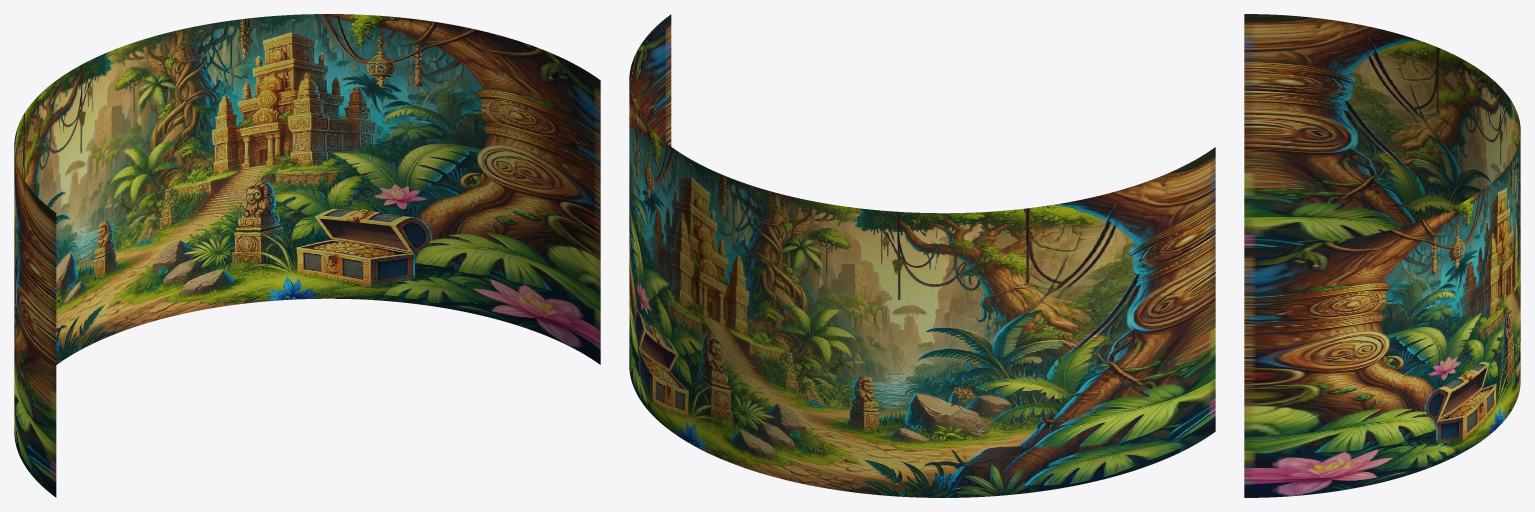
Rendered from Background_fbx_common_textured.fbx.
The picture shows the model from 3 angles, left to right: view 1: azimuth 30°, elevation 25°; view 2: azimuth 150°, elevation 25°; view 3: azimuth 270°, elevation 25°; orthographic projection. The views are drawn at different scales.
Visible parts, largest first — view 1: Obj; view 2: Obj; view 3: Obj.
Part boxes in pixels (box(x1,y1,x2,y2)): Obj: box(14, 14, 600, 497); Obj: box(629, 14, 1215, 497); Obj: box(1244, 14, 1520, 497).
Size of the model in its own units: 200 by 100 by 100.
1 material, 1 textured.
